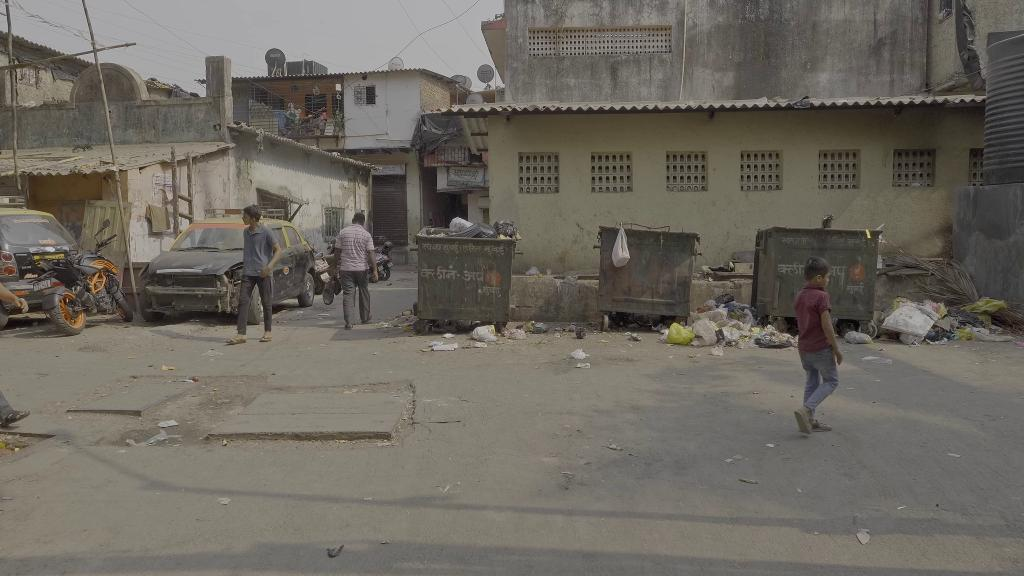dustbin: (749, 228, 879, 337), (415, 224, 514, 334), (596, 223, 696, 330)
garbage: (884, 296, 947, 342), (695, 297, 756, 343), (659, 317, 700, 347), (610, 220, 633, 269), (470, 322, 498, 343), (527, 317, 549, 335), (571, 325, 590, 340), (570, 350, 587, 361)
